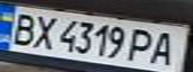1: (90, 21, 112, 57)
3: (72, 19, 93, 55)
4: (54, 17, 78, 53)
9: (106, 22, 130, 61)
A: (145, 29, 187, 68)
B: (3, 10, 42, 47)
P: (124, 26, 163, 64)
X: (24, 12, 60, 51)
